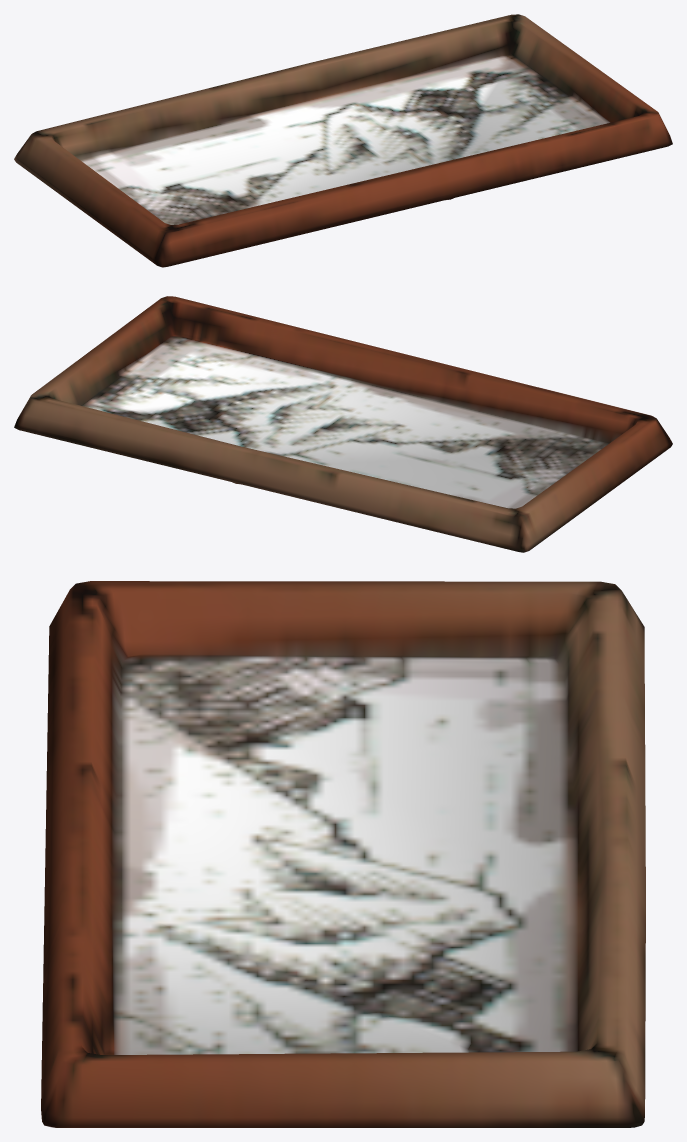
File: Painting0.fbx
3 views of the same model, one above another, from view 1: azimuth 30°, elevation 25°; view 2: azimuth 150°, elevation 25°; view 3: azimuth 270°, elevation 25° (orthographic). The views are drawn at different scales.
Parts seen in each view (by area): view 1: Painting0; view 2: Painting0; view 3: Painting0.
Boxes of the visible parts, x1,y1,x2,y2 form: Painting0: (14,14,672,267); Painting0: (14,296,672,552); Painting0: (41,581,645,1127).
Bounding box in the file's own units: 96.93 × 5.46 × 49.56.
